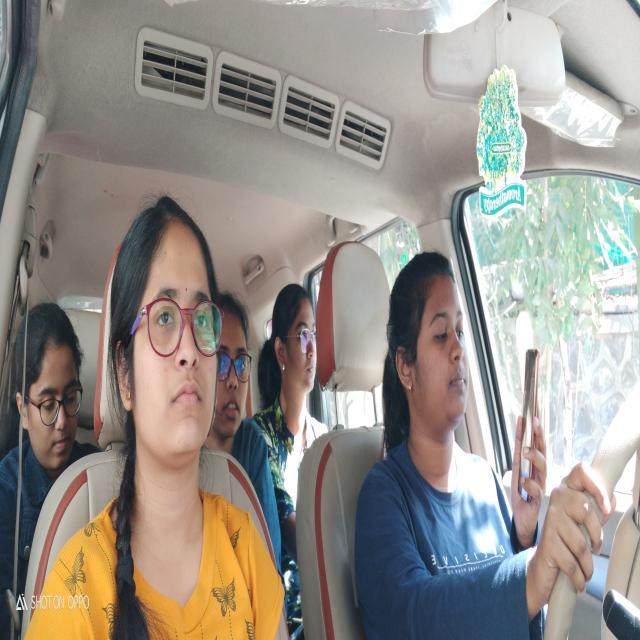mobile: (512, 318, 549, 527)
person: (105, 187, 225, 495), (386, 242, 488, 452), (19, 281, 90, 483), (268, 268, 324, 427), (214, 267, 256, 443)
